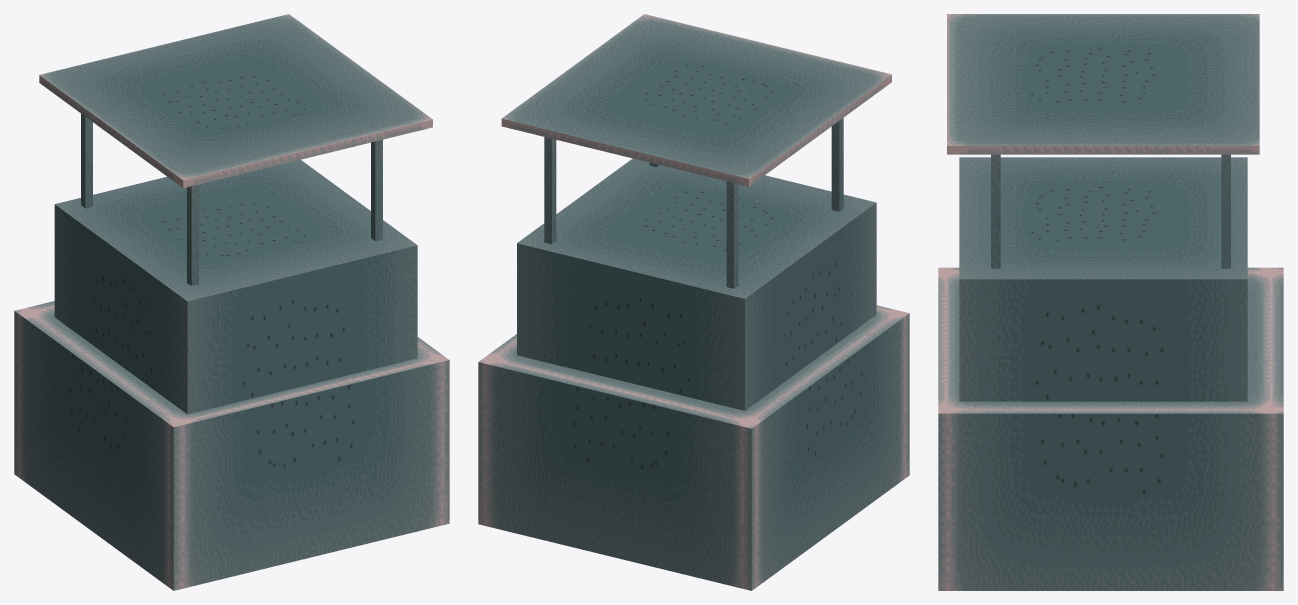
File: yk_katto_lvi_tuuletusaukko3.fbx
3 views of the same model, side by side, from view 1: azimuth 30°, elevation 25°; view 2: azimuth 150°, elevation 25°; view 3: azimuth 270°, elevation 25° (orthographic). The views are drawn at different scales.
Parts seen in each view (by area): view 1: Plane.003; view 2: Plane.003; view 3: Plane.003.
Boxes of the visible parts, x1=… form: Plane.003: x1=14, y1=14, x2=449, y2=590; Plane.003: x1=478, y1=14, x2=909, y2=590; Plane.003: x1=938, y1=14, x2=1283, y2=590.
Size of the model in its own units: 118 by 166 by 118.
